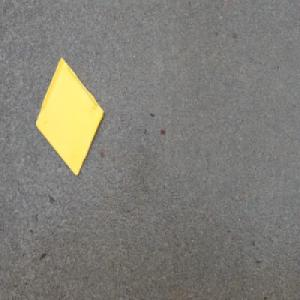PlasticPart: (35, 56, 105, 177)
